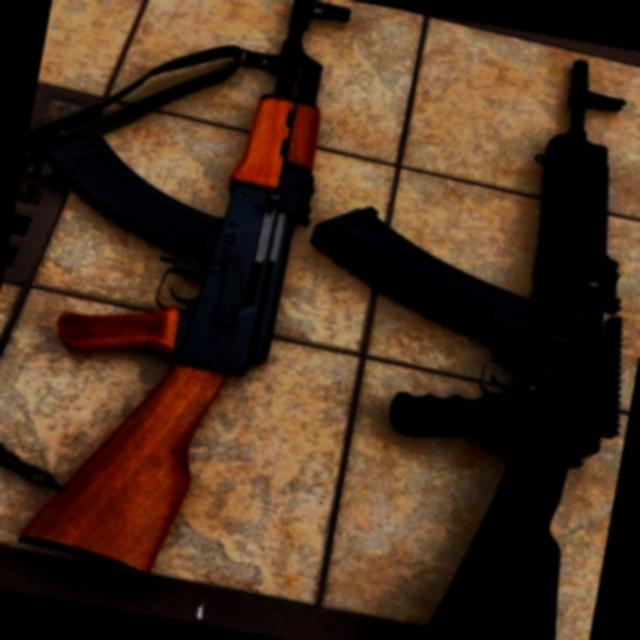ak: (233, 10, 640, 640)
